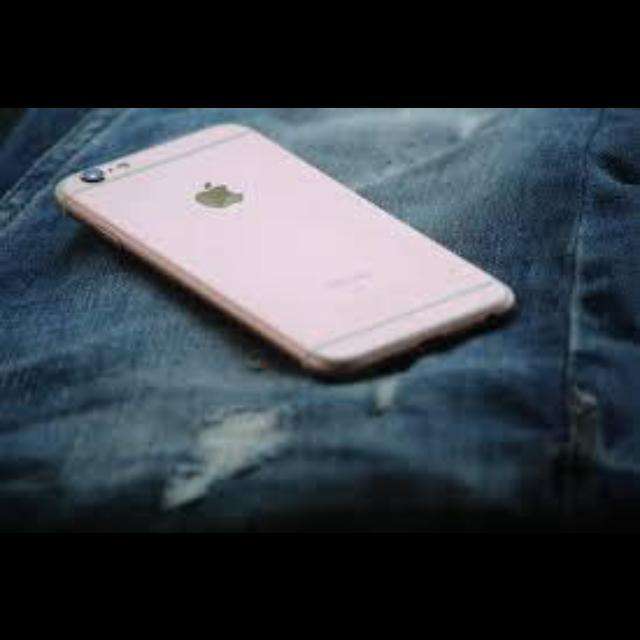phone: (0, 116, 548, 383)
